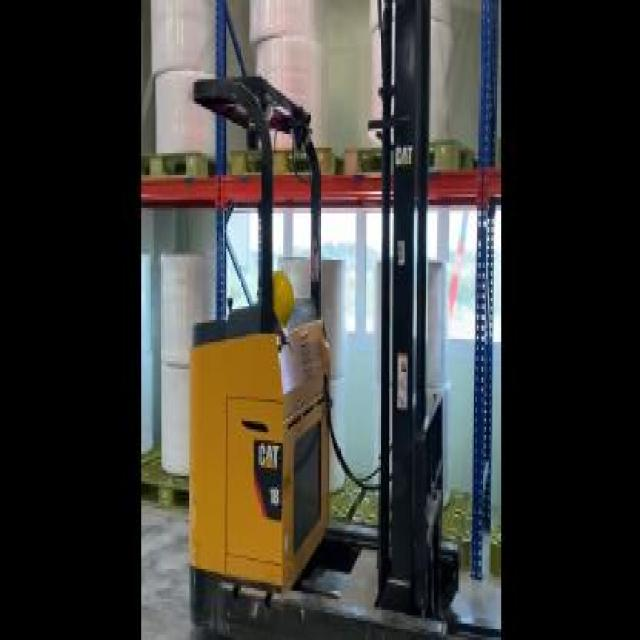robot: (183, 11, 486, 629)
white_roll: (374, 260, 454, 520), (274, 254, 351, 500), (354, 2, 455, 170), (143, 3, 228, 183), (240, 0, 326, 164), (162, 240, 216, 498)
